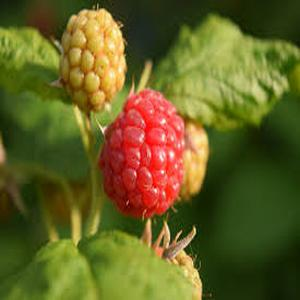raspb: (56, 1, 188, 227)
